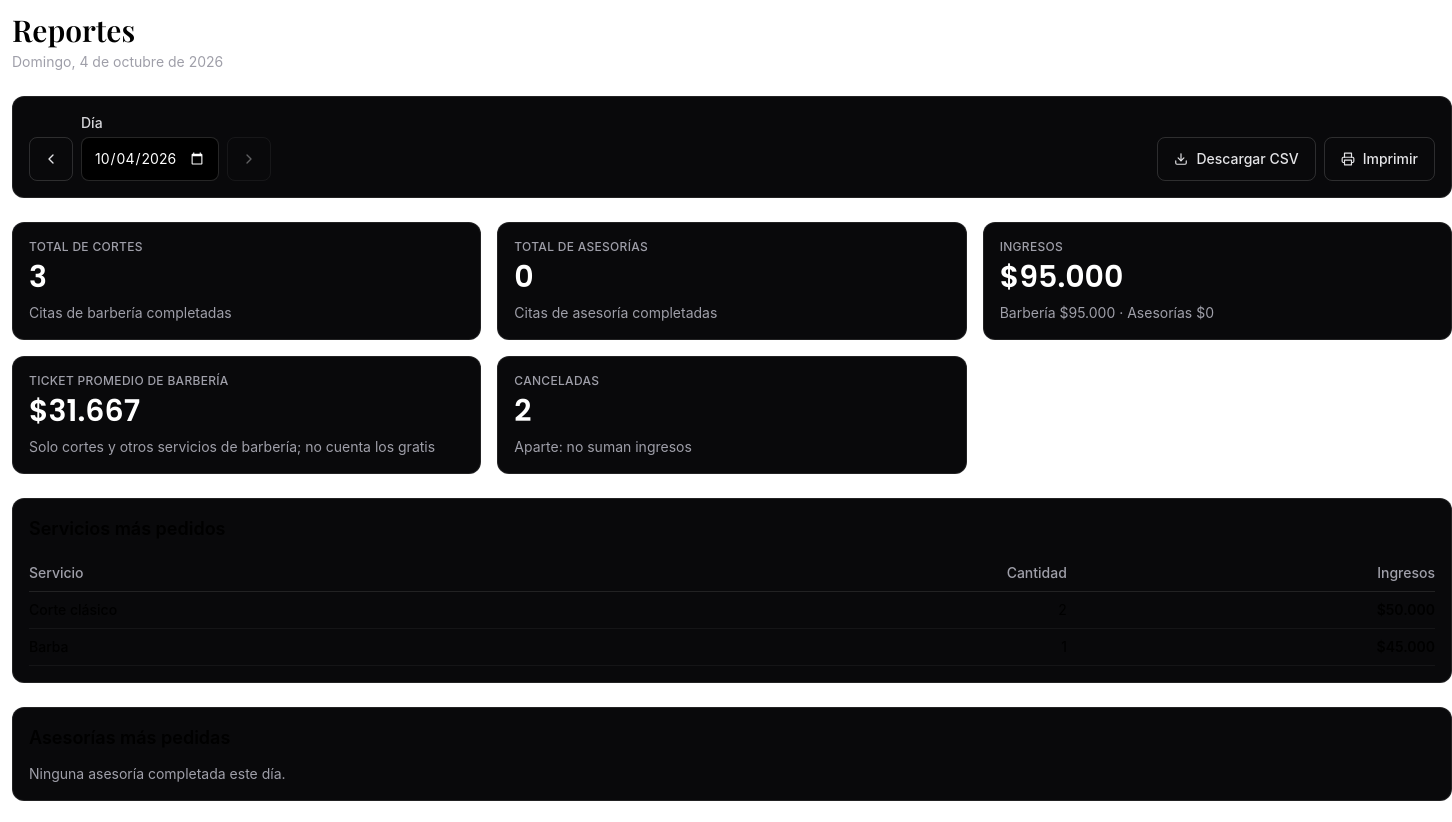
Test: Reportes: selector de día y URL › "Día anterior" pide el día de ayer y lo guarda en la URL (?fecha=)
What coordinates should you click on to do the following:
click the button named "Día anterior"
I would click on:
 (51, 159)
Its box is [29, 137, 73, 181].
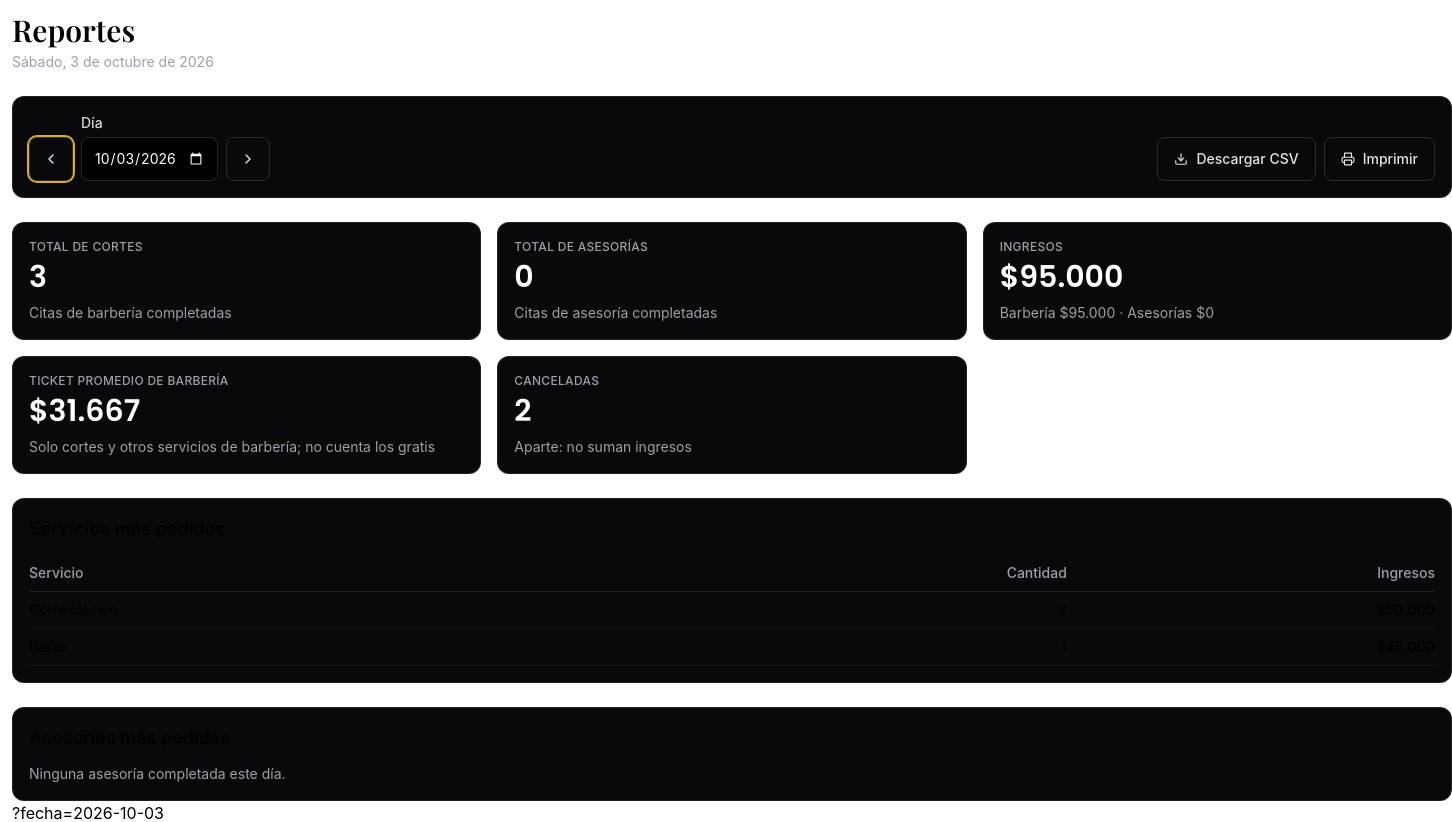
Result: the text with test id "ubicacion" reads "?fecha=2026-10-03" at [12, 803, 164, 821]
Result: the date field labelled "Día" holds "2026-10-03" at [81, 137, 218, 181]
Result: the button named "Día siguiente" is enabled at [226, 137, 270, 181]
